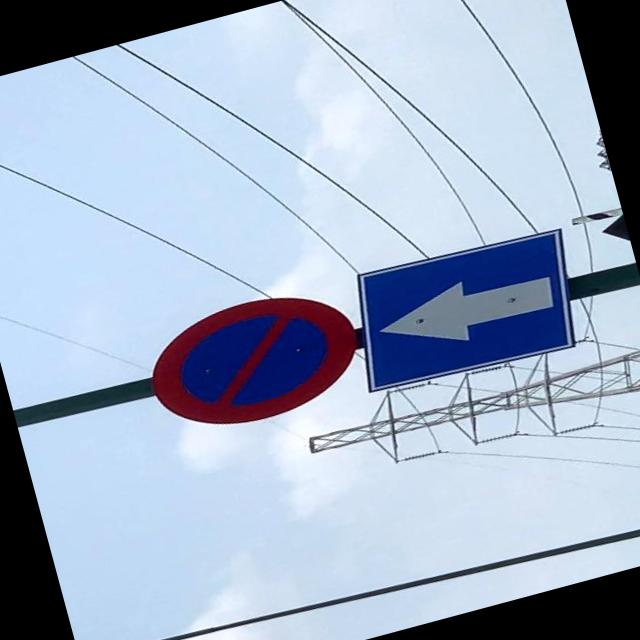I-407a: (342, 224, 592, 394)
P-131a: (134, 272, 368, 446)
